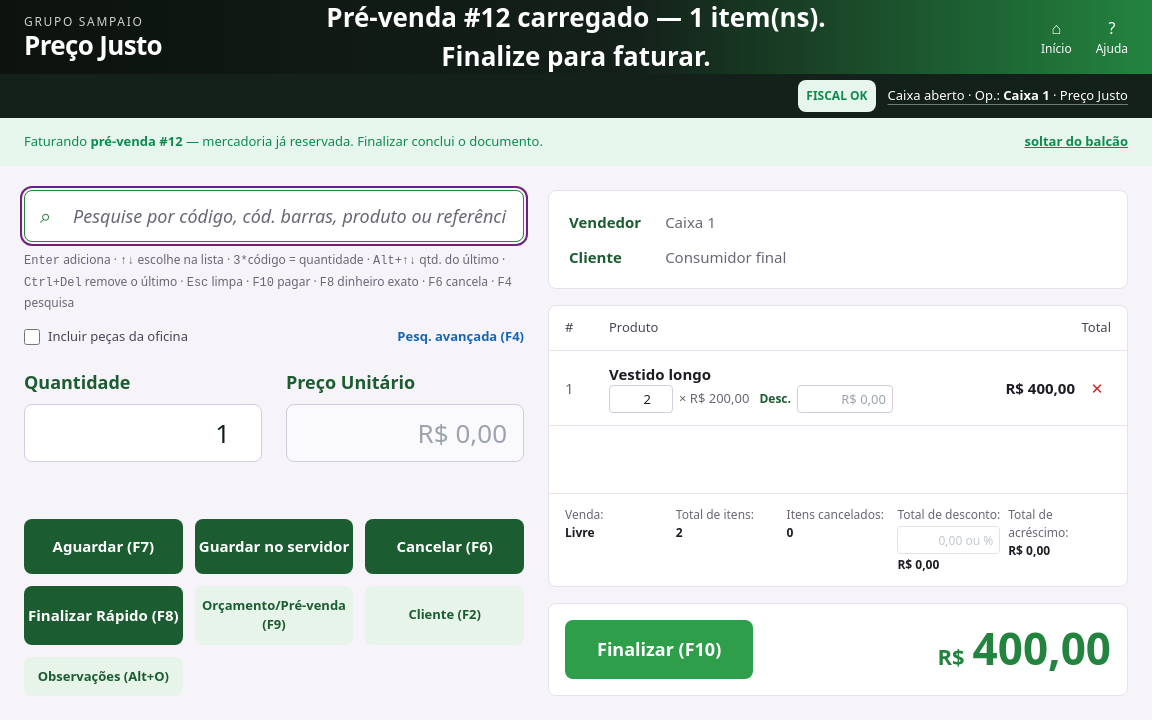
Scenario: a conversão da pré-venda recusada pela chave reusada › vira o diálogo da casa, na língua do caixa — e nada é reenviado sem a escolha
Click the button "Finalizar Rápido (F8)".
click(103, 615)  # box 24,586 -> 183,644
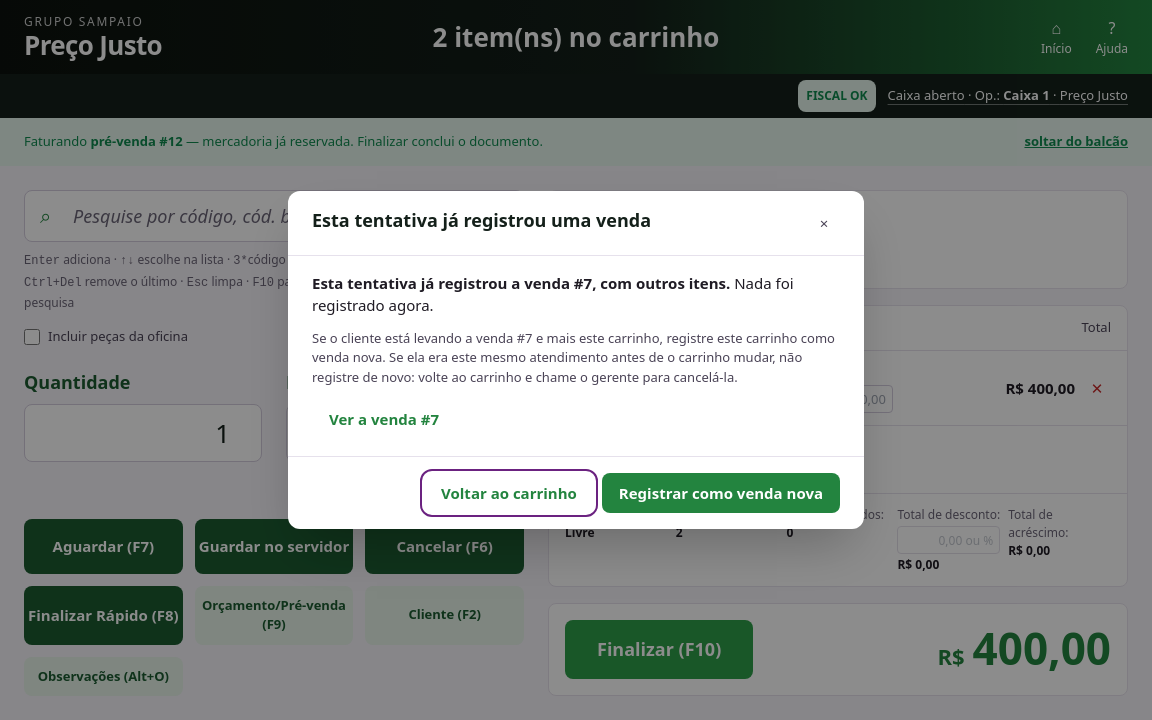
Expected: the text "pré-venda #12" is shown, 90,132 -> 183,150
Expected: the dialog "já registrou" shows "Esta tentativa já registrou a venda #7, com outros itens.", 312,273 -> 730,293
Expected: the dialog "já registrou" shows "nada foi registrado agora", 312,273 -> 794,315
